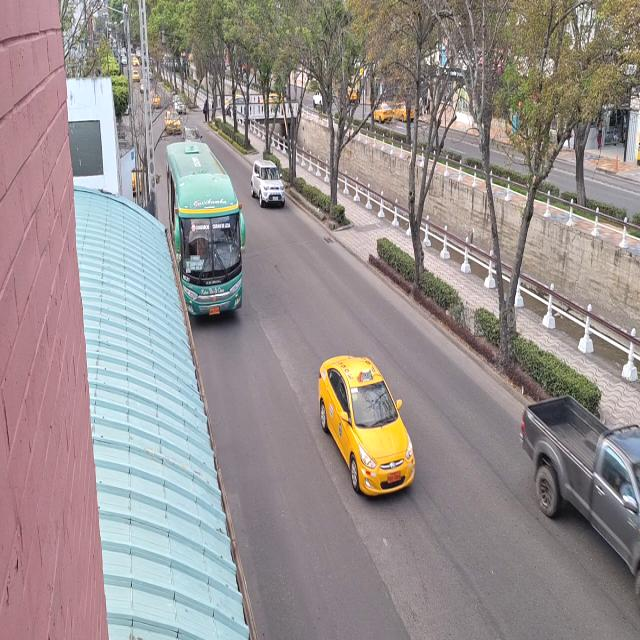BUS: (169, 144, 247, 318)
CMT: (522, 396, 638, 626)
SED: (317, 358, 415, 500)
SUV: (250, 160, 285, 208)
